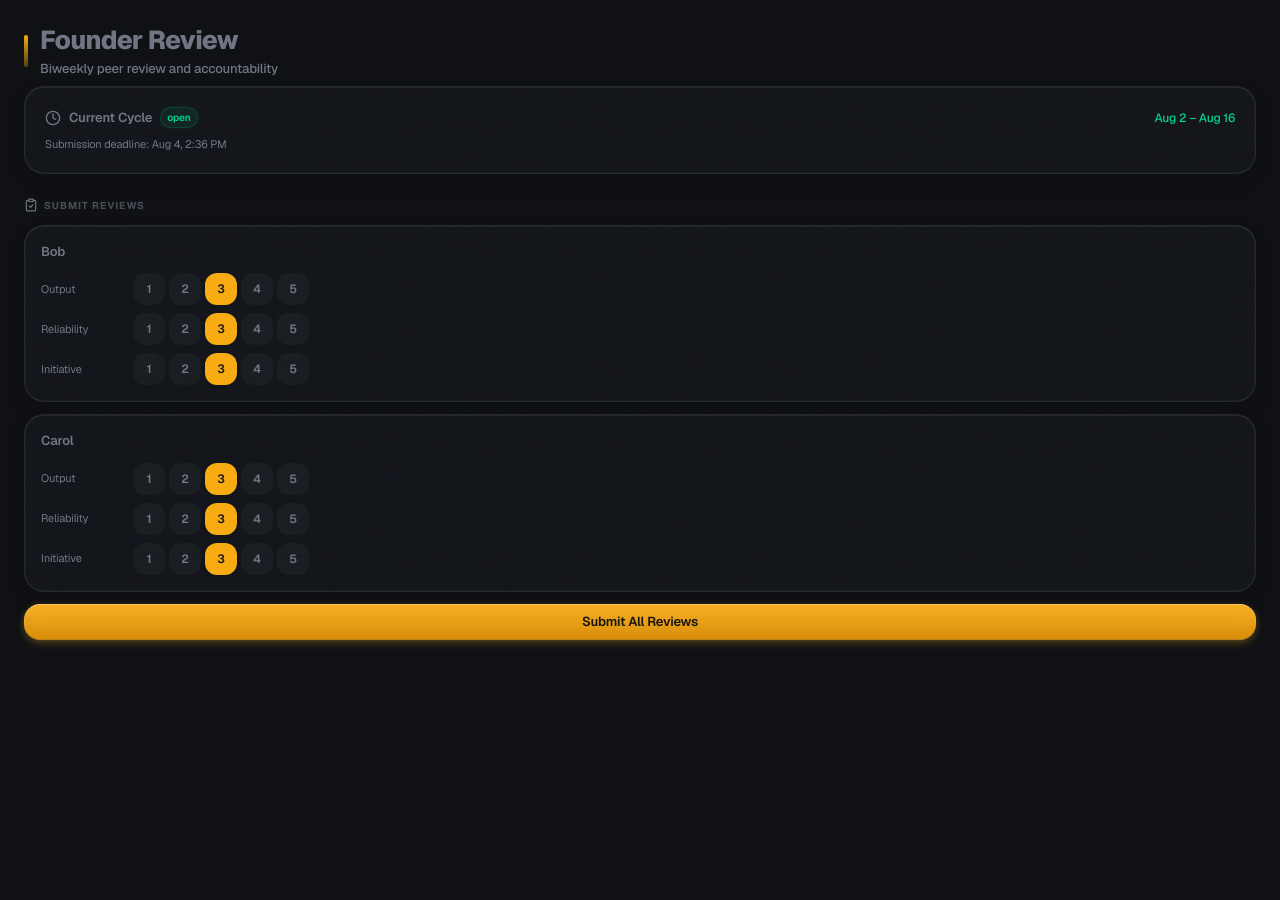
Test case: FounderReviewScreen › shows confirmation message when submitted
The width and height of the screenshot is (1280, 900).
Click the button "Submit All Reviews" at [640, 622], box [24,604,1256,640]
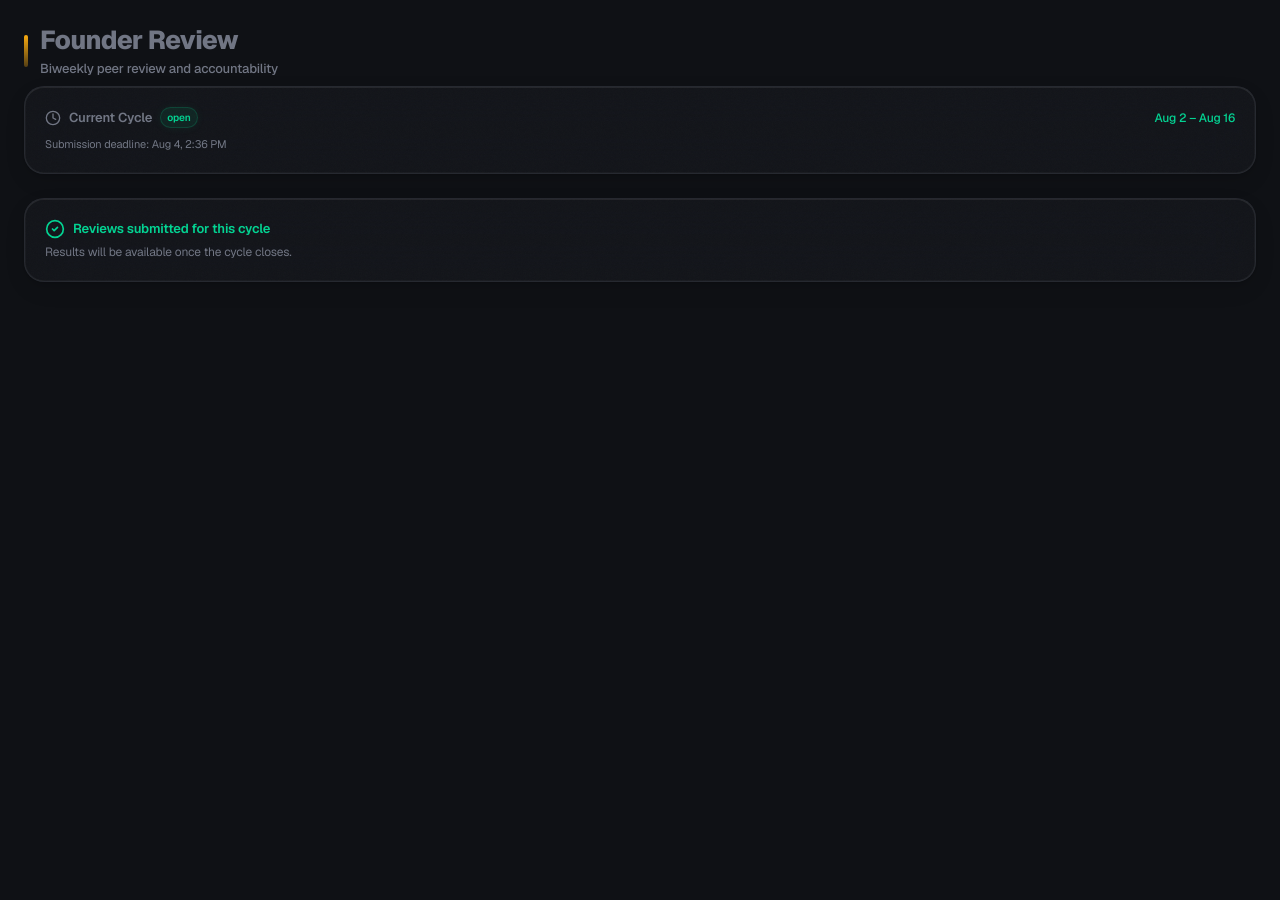
Now the text "Reviews submitted for this cycle" is shown, box [73,219,270,238]
